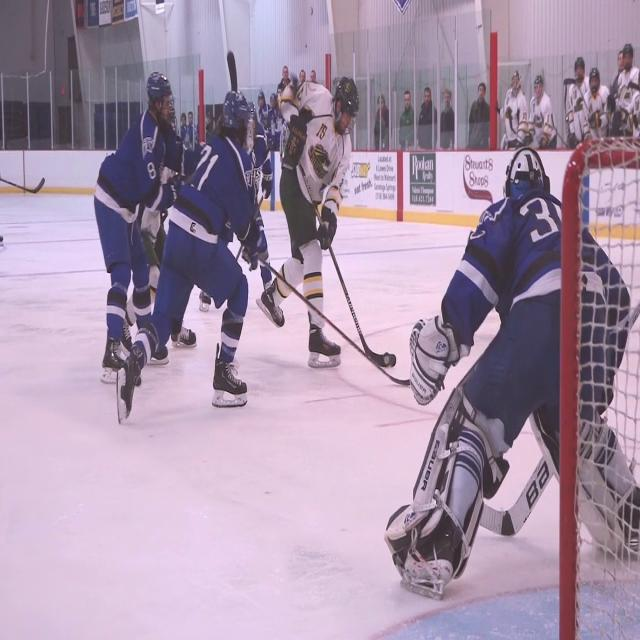body: (380, 142, 640, 606), (115, 87, 262, 429), (255, 73, 362, 371), (92, 69, 184, 388), (120, 119, 198, 358), (198, 100, 274, 314), (581, 65, 613, 201), (522, 74, 558, 149), (497, 70, 529, 152), (616, 42, 640, 138), (567, 56, 591, 150), (619, 69, 640, 143), (468, 81, 490, 150), (416, 86, 438, 150), (438, 86, 456, 152), (374, 92, 394, 150), (398, 89, 416, 150), (610, 47, 624, 102), (256, 90, 272, 132), (184, 111, 198, 153), (276, 64, 292, 100), (203, 106, 219, 140), (267, 92, 281, 129), (276, 88, 284, 150), (179, 111, 189, 142), (298, 68, 306, 82), (310, 68, 317, 82)
